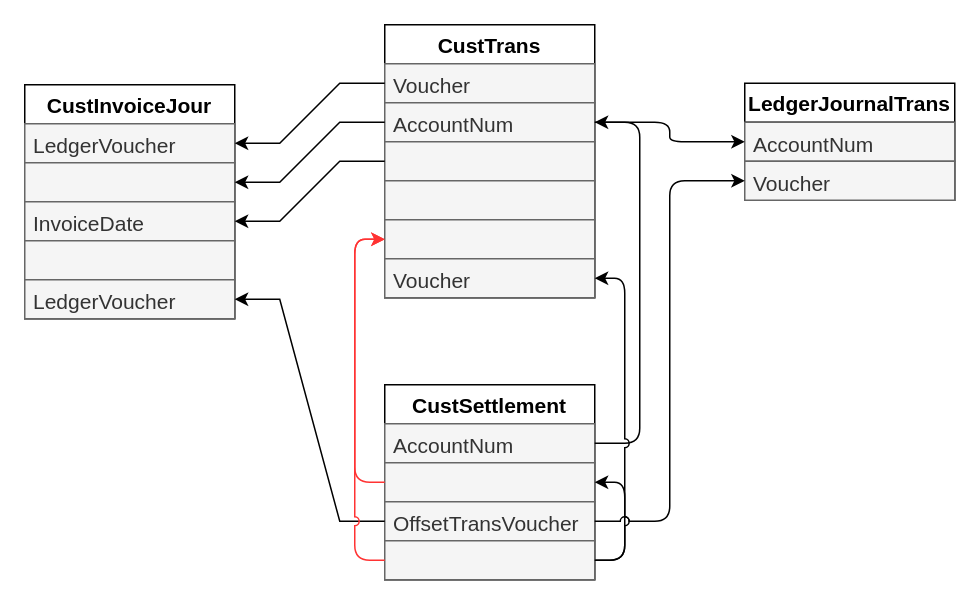
This 980x605 diagram has some shape labels left out. The shapes that lost their labels are listed below. From the top down, each one's centre as x and y in pixels, then its label:
At (489,160): "TransDate".
At (129,181): "InvoiceAccount".
At (489,199): "Invoice".
At (489,238): "RecId".
At (129,259): "InvoiceId".
At (489,481): "TransRecId".
At (489,559): "OffsetRecId".
